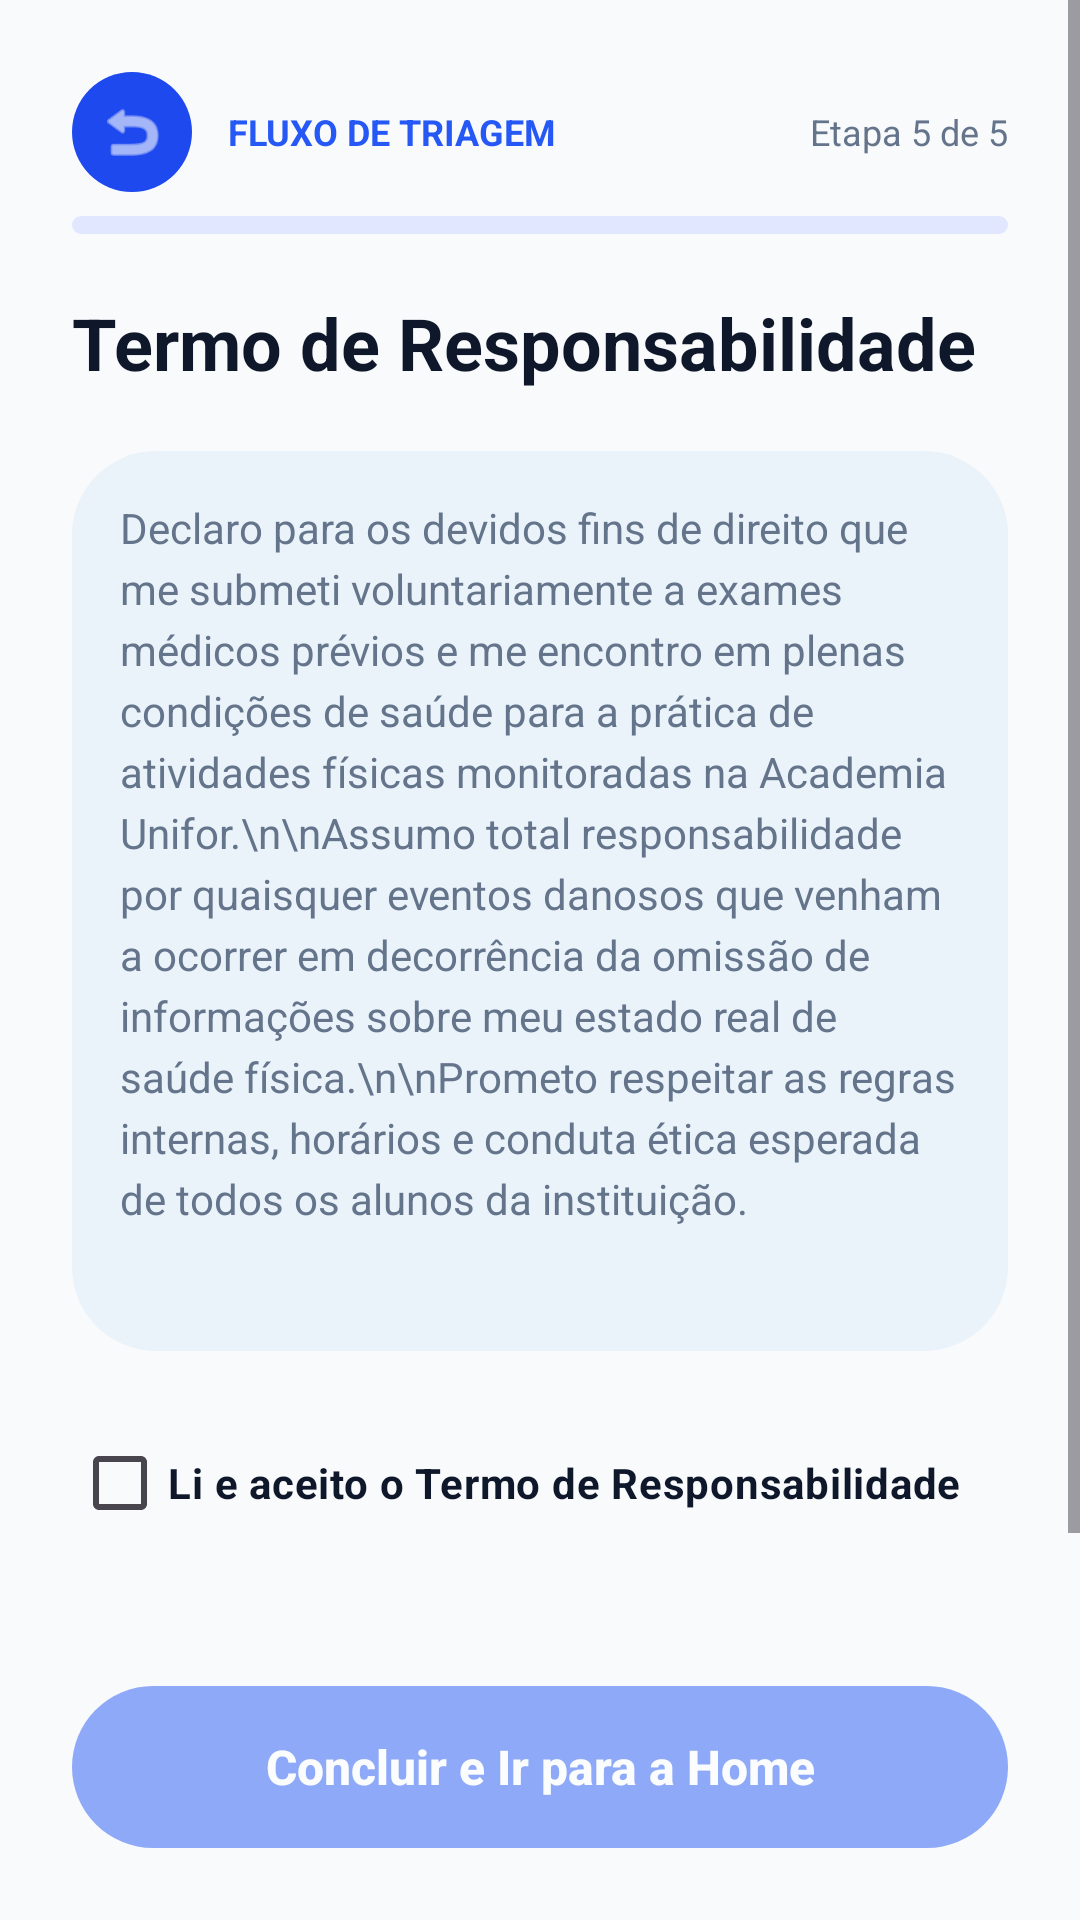

Icons on this 1080px x 1920px Android screen, each with its box as detection(x1, y1, x2, y2):
revert: detection(72, 72, 192, 192)
